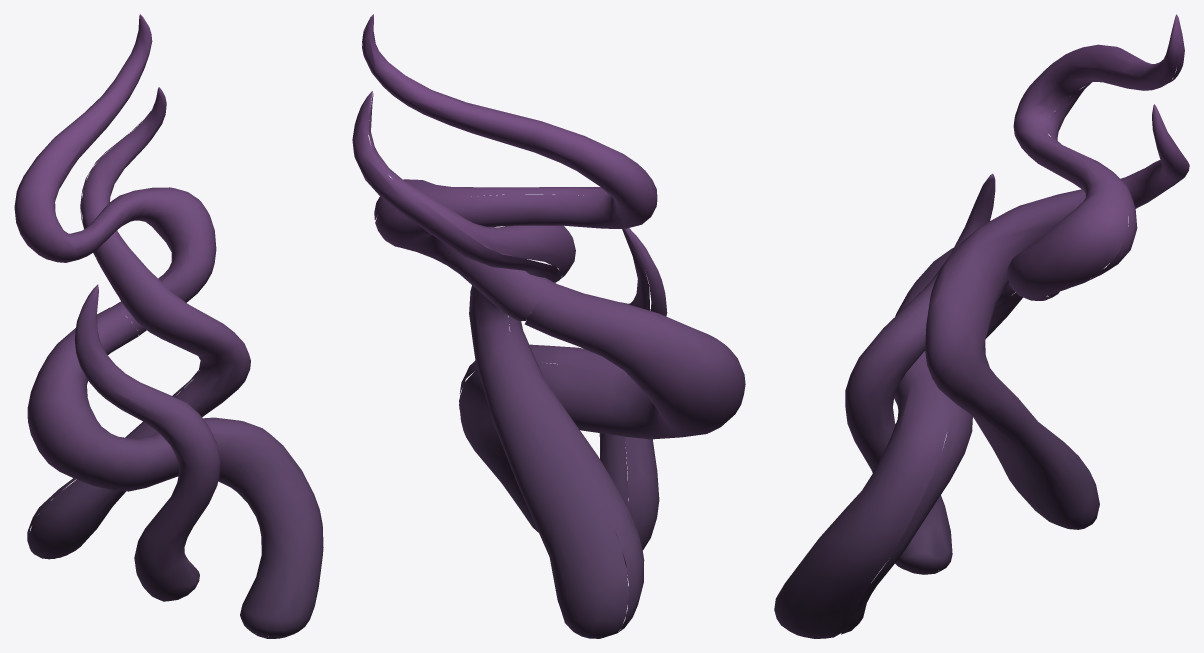
The model's file is lb_tentacle_a.glb.
The picture shows the model from 3 angles, left to right: view 1: azimuth 30°, elevation 25°; view 2: azimuth 150°, elevation 25°; view 3: azimuth 270°, elevation 25°; orthographic projection. The views are drawn at different scales.
Parts seen in each view (by area): view 1: geometry_0; view 2: geometry_0; view 3: geometry_0.
Boxes of the visible parts, x1,y1,x2,y2 form: geometry_0: [14, 14, 323, 638]; geometry_0: [352, 14, 745, 638]; geometry_0: [774, 14, 1189, 638].
Bounding box in the file's own units: 18.92 × 37.8 × 22.69.
